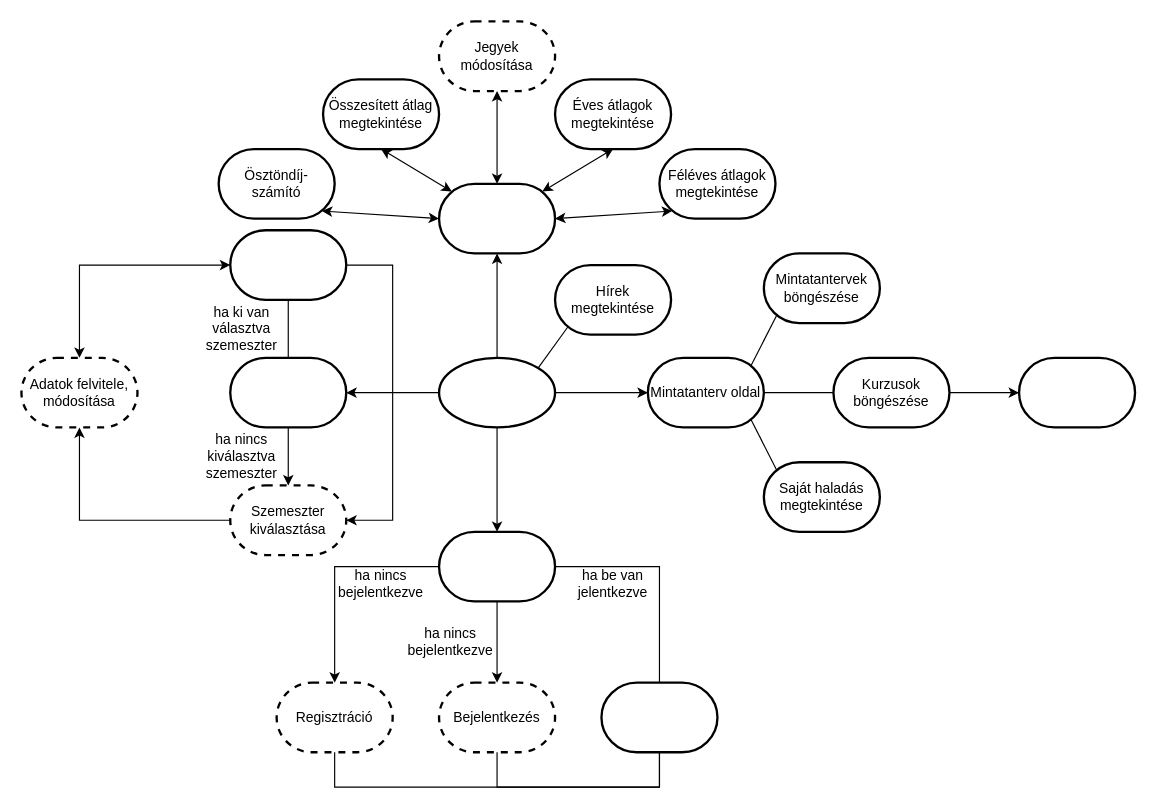
The diagram is 1155 pixels wide and 809 high, and some of its shapes have lost their labels. Each missing label, with the centre of its shape:
Felhasználó oldal: the point at 496,566
Felhasználói adatok, beállítások: the point at 659,717
Főoldal: the point at 496,392
Kurzus részleteinek megtekintése: the point at 1076,392
Tanulmányi átlagok oldal: the point at 496,218
Órarend megtekintése: the point at 288,264
Órarendtervező oldal: the point at 288,392
